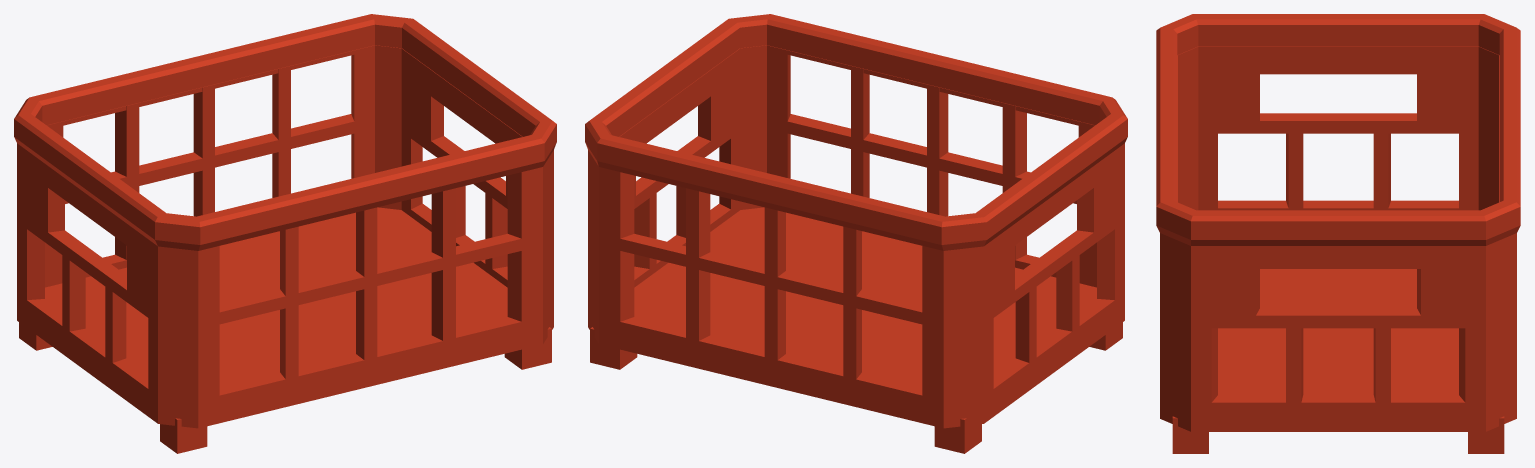
Rendered from SM_Clutter_BottleCrate_01.obj.
3 renders of one model, left to right at view 1: azimuth 30°, elevation 25°; view 2: azimuth 150°, elevation 25°; view 3: azimuth 270°, elevation 25°, orthographic. The views are drawn at different scales.
Parts seen in each view (by area): view 1: SM_Clutter_BottleCrate_01; view 2: SM_Clutter_BottleCrate_01; view 3: SM_Clutter_BottleCrate_01.
Part boxes in pixels (left/top/right/bottom): SM_Clutter_BottleCrate_01: left=14, top=14, right=556, bottom=453; SM_Clutter_BottleCrate_01: left=585, top=14, right=1127, bottom=453; SM_Clutter_BottleCrate_01: left=1156, top=14, right=1520, bottom=453.
Bounding box in the file's own units: 0.4704 × 0.26 × 0.3528.
1 material, 1 textured.
